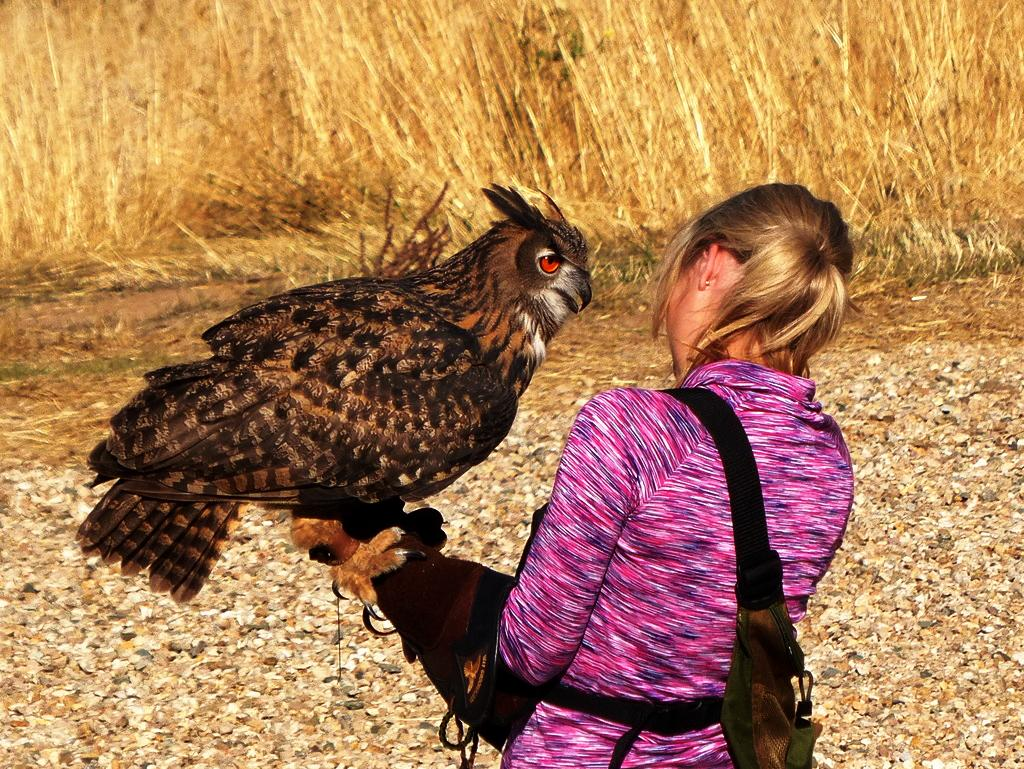Owl: (65, 176, 590, 620)
